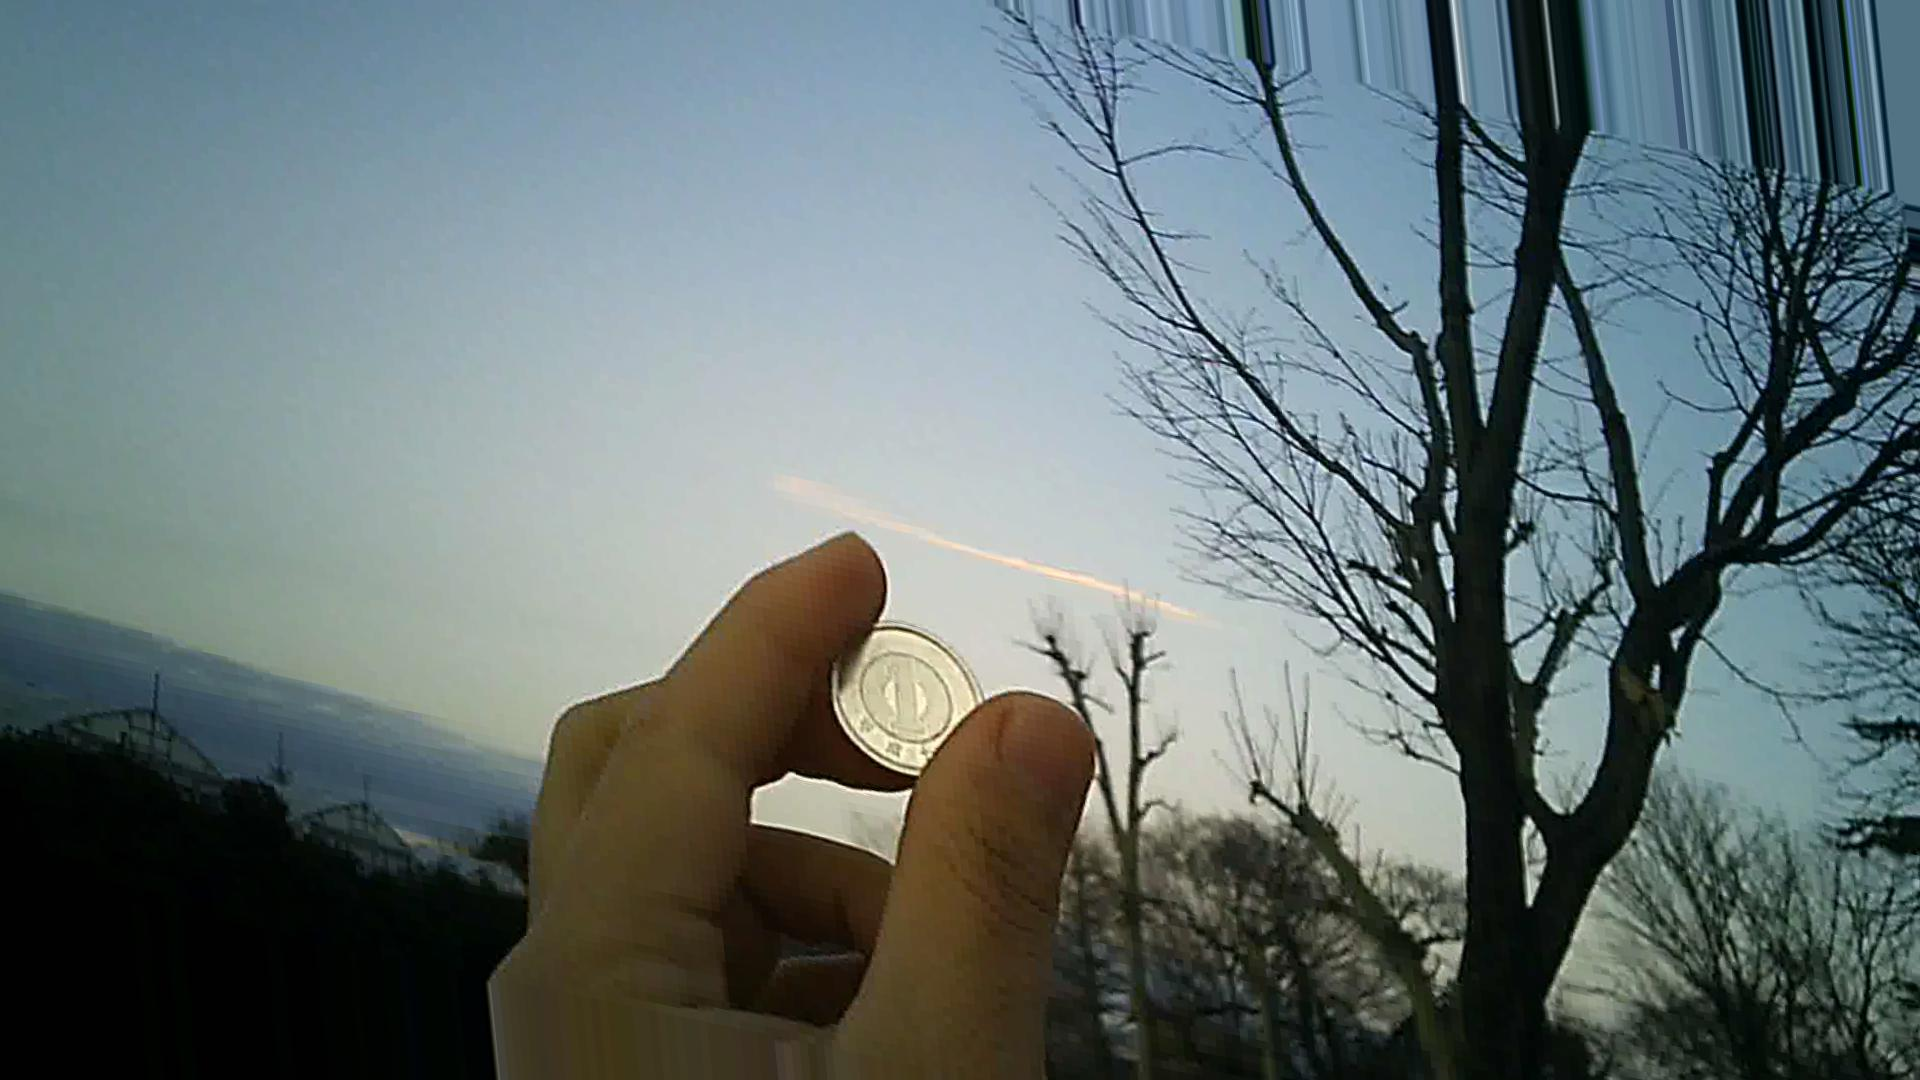1 Yen: (815, 607, 994, 785)
